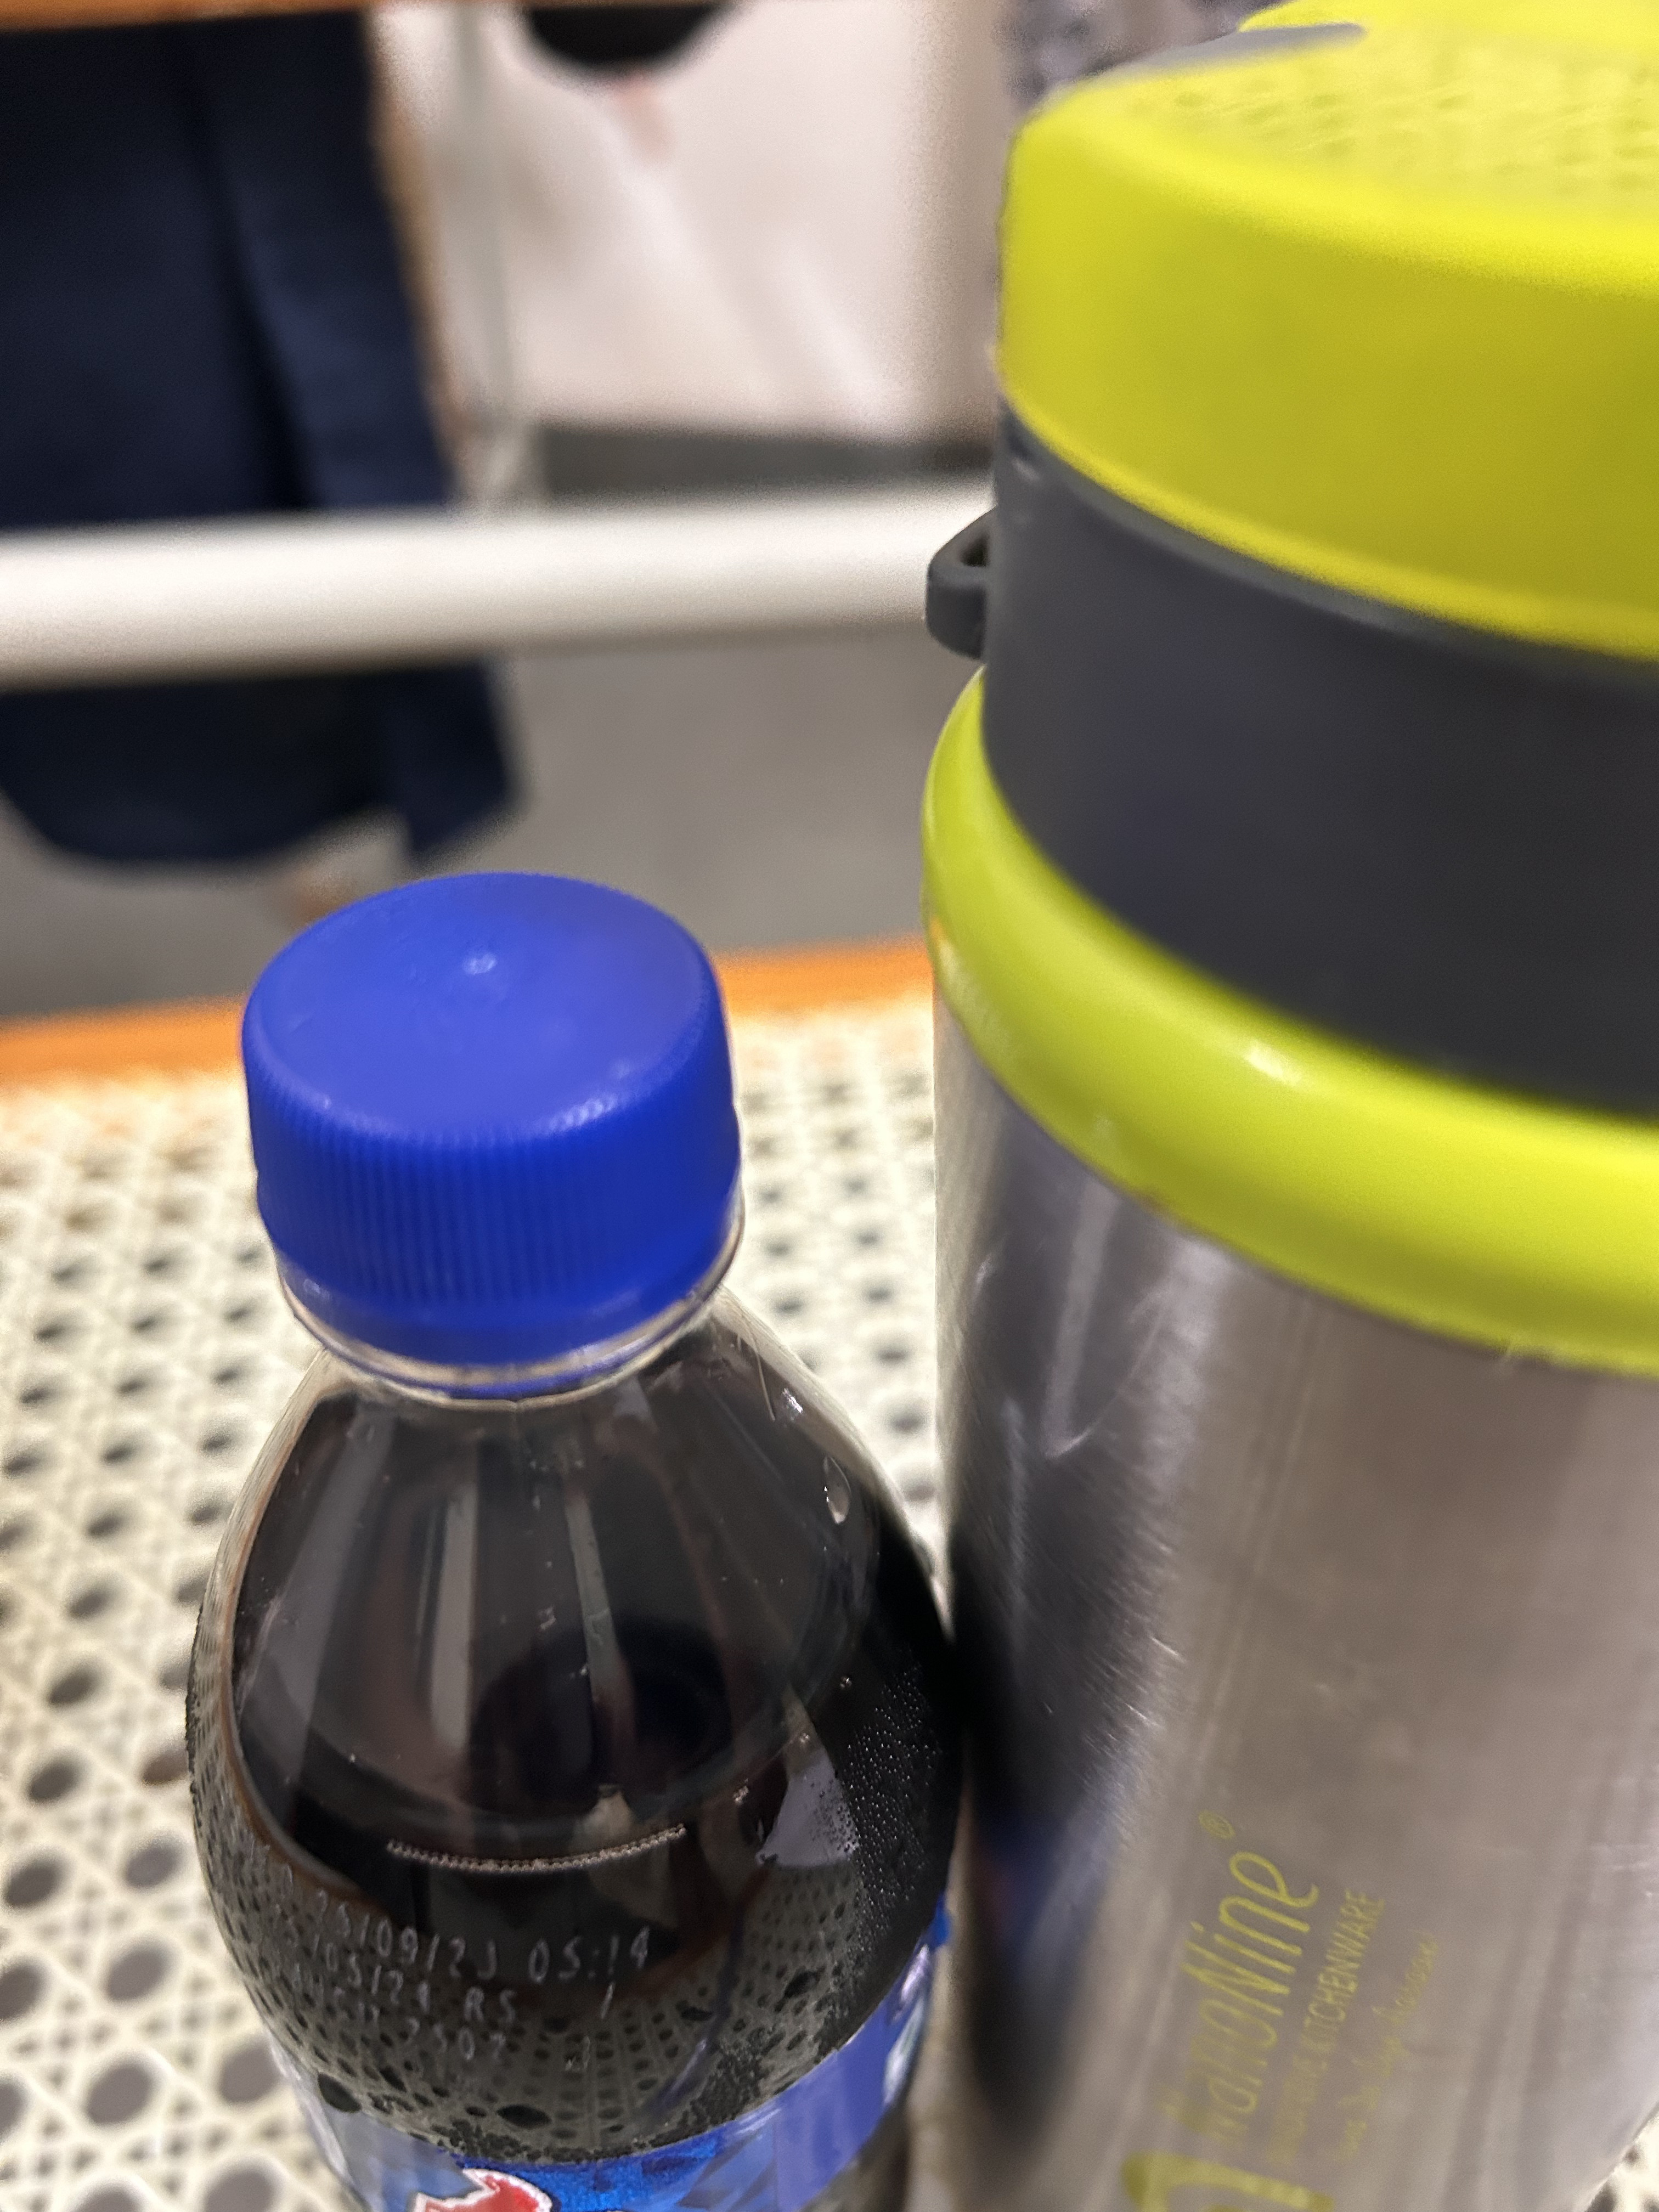sealstable: (218, 815, 784, 1496)
